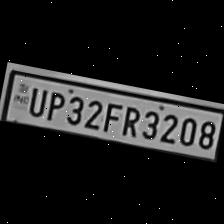0: (175, 111, 199, 146)
2: (156, 108, 181, 144), (82, 95, 106, 131)
3: (60, 90, 86, 125), (138, 105, 161, 140)
8: (195, 115, 219, 150)
F: (100, 96, 123, 134)
P: (42, 87, 66, 123)
R: (118, 102, 142, 138)
U: (24, 84, 48, 118)
